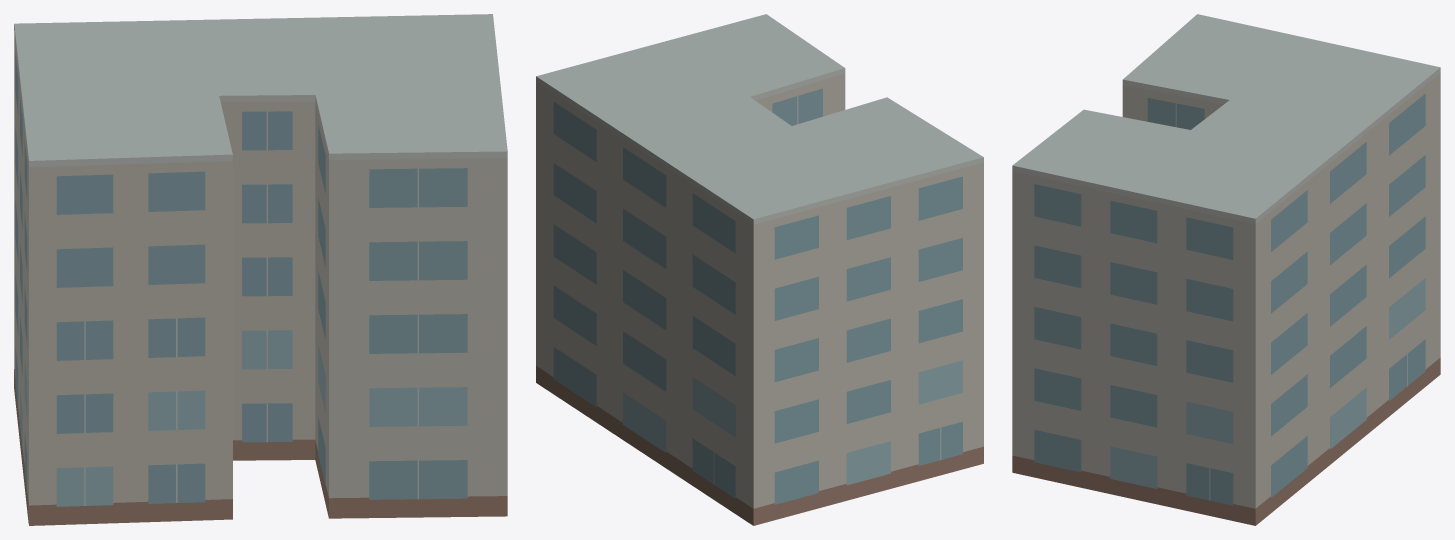
Rendered from survey-upis-32593292.glb.
The picture shows the model from 3 angles, left to right: view 1: azimuth 30°, elevation 25°; view 2: azimuth 150°, elevation 25°; view 3: azimuth 270°, elevation 25°; orthographic projection. The views are drawn at different scales.
Visible parts, largest first — view 1: survey-upis-32593292.tmp; view 2: survey-upis-32593292.tmp; view 3: survey-upis-32593292.tmp.
Part boxes in pixels (<box>): survey-upis-32593292.tmp: <box>14,14,507,525</box>; survey-upis-32593292.tmp: <box>536,14,983,525</box>; survey-upis-32593292.tmp: <box>1012,14,1440,525</box>.
Size of the model in its own units: 19.96 by 13.95 by 17.64.
